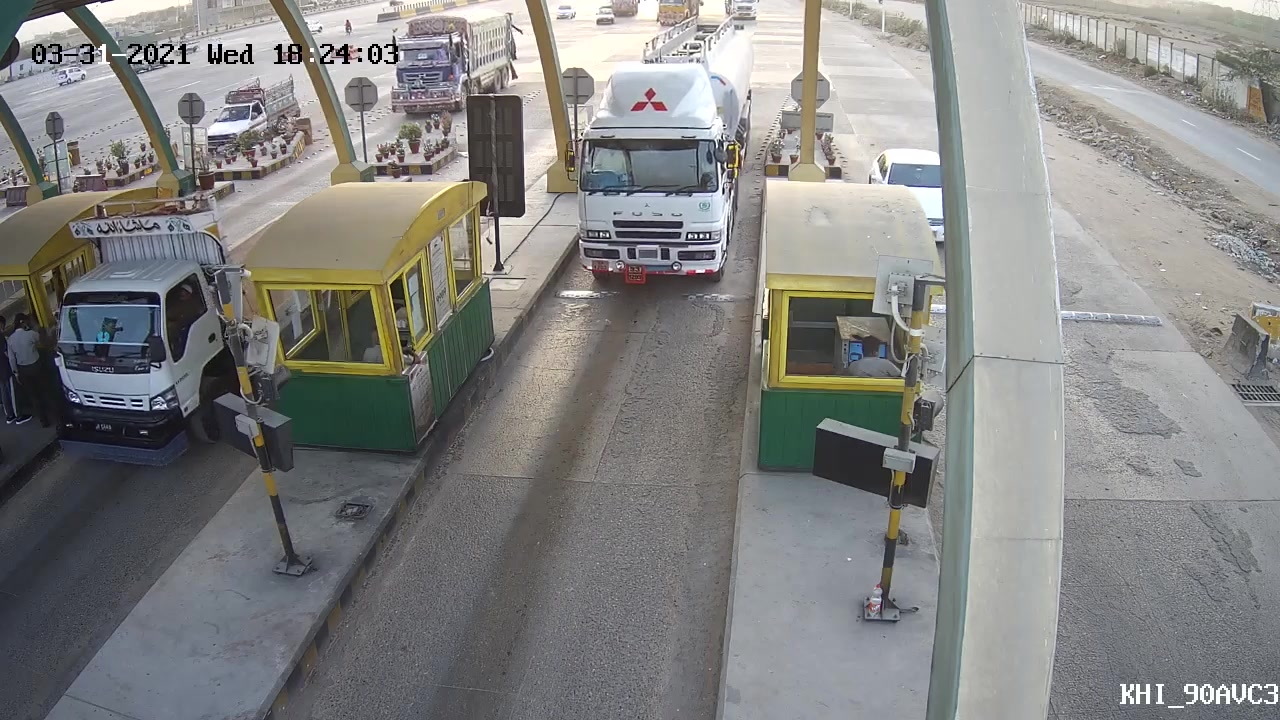F6: (557, 43, 751, 289)
